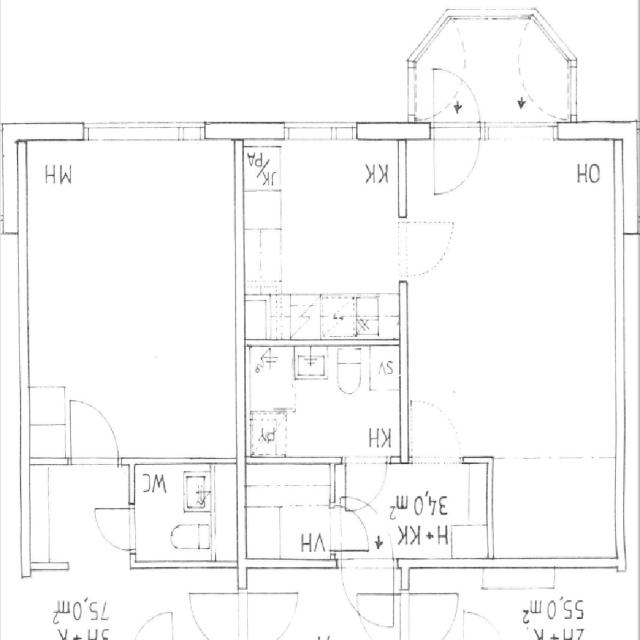door: (127, 459, 212, 568), (428, 63, 480, 154), (66, 394, 124, 472), (428, 123, 482, 200), (408, 394, 465, 465), (399, 214, 454, 280), (90, 500, 139, 554), (342, 456, 390, 510), (332, 498, 375, 552)
window: (82, 119, 212, 146), (283, 116, 361, 146), (481, 118, 558, 148)
zone: (408, 136, 613, 478), (27, 134, 235, 471), (243, 134, 411, 343), (246, 342, 405, 462), (488, 456, 618, 564), (364, 461, 490, 558), (26, 573, 185, 639), (127, 461, 213, 569)
